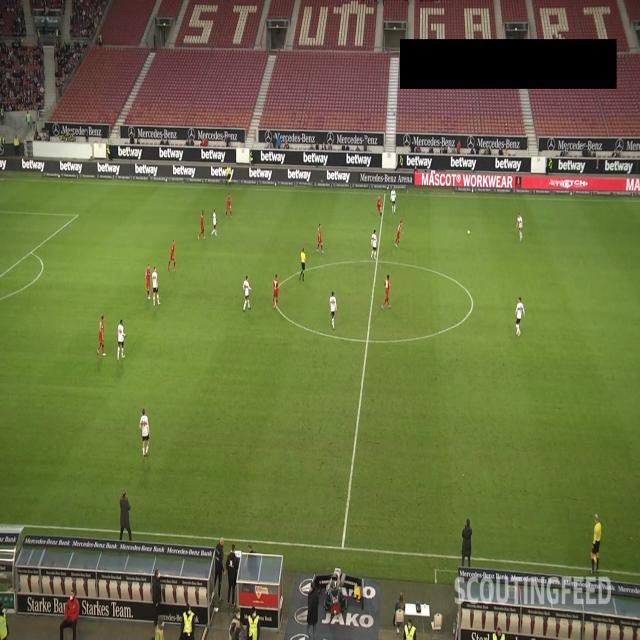ball: (467, 230, 471, 235)
